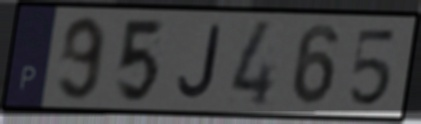4: (228, 18, 278, 110)
5: (111, 17, 169, 105), (346, 27, 400, 108)
6: (289, 22, 342, 109)
9: (57, 14, 109, 103)
J: (174, 23, 223, 102)
